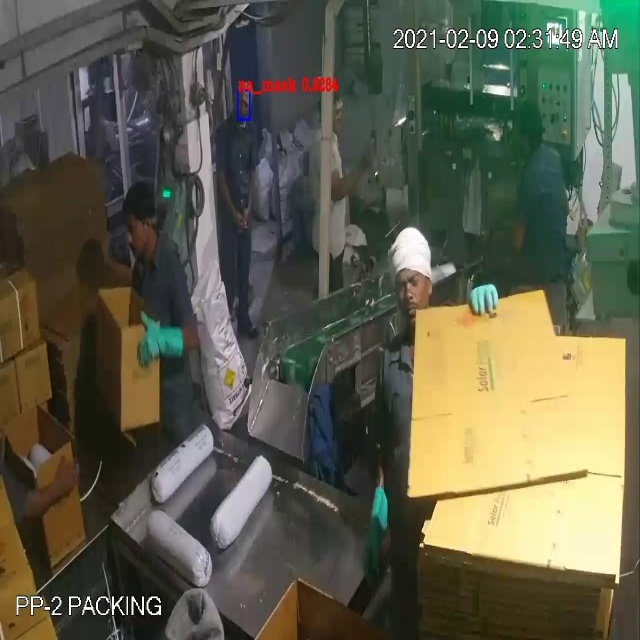Guantes: (347, 473, 400, 603), (128, 303, 200, 381)
Sin_guantes: (14, 444, 89, 534), (325, 132, 387, 208), (213, 152, 248, 237), (239, 154, 259, 231)
